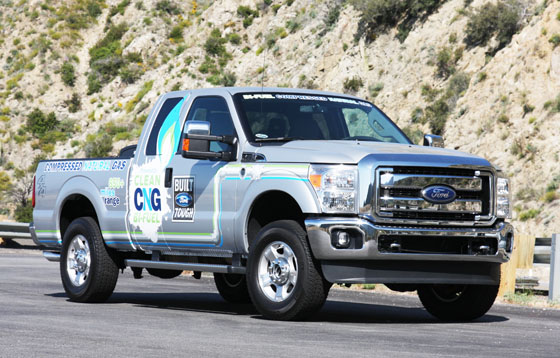Vehicle: (26, 85, 518, 325)
